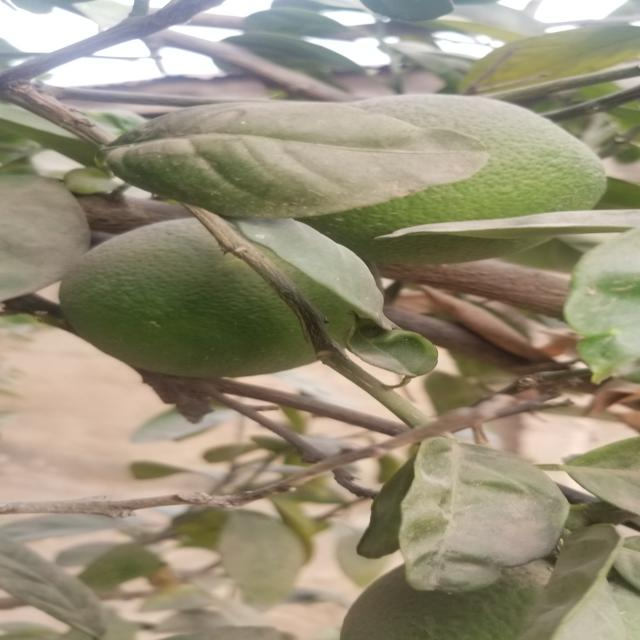Unripe: (72, 216, 362, 382), (336, 94, 594, 268)
